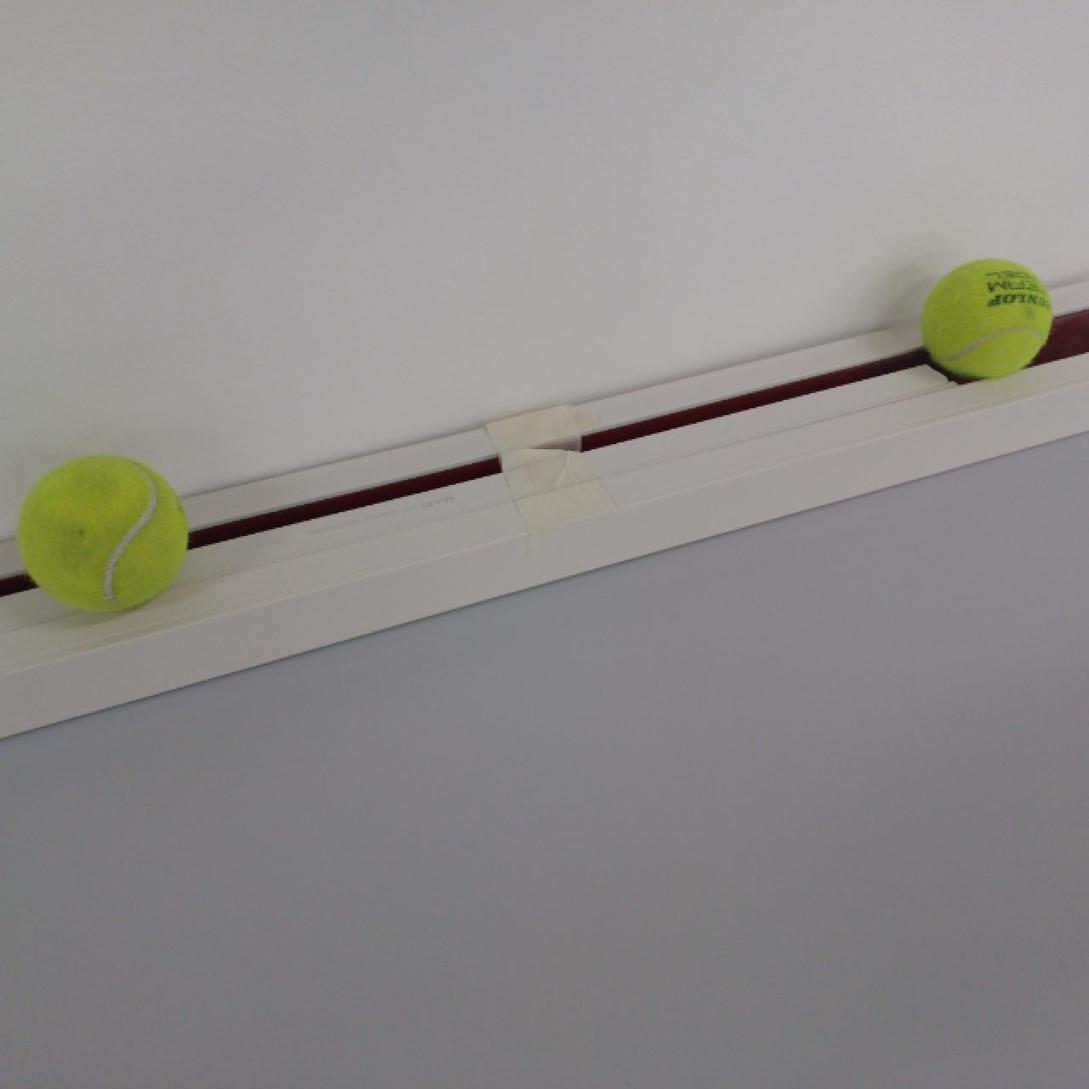tennis-ball: (14, 452, 192, 616), (917, 257, 1055, 381)
